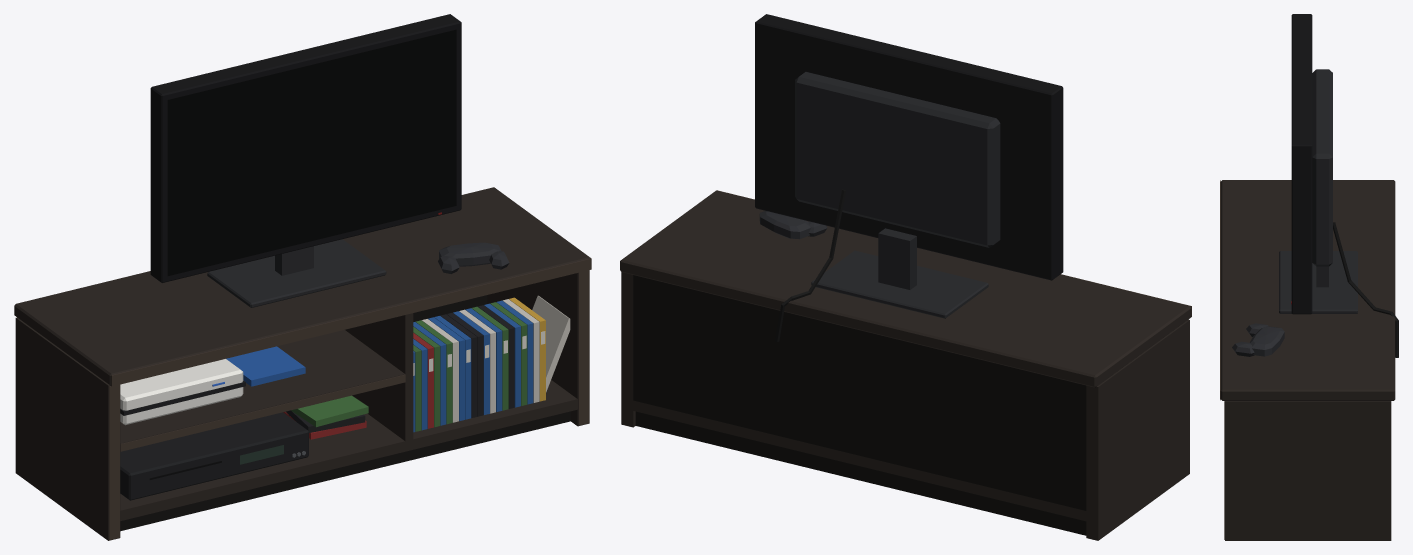
Rendered from tv_set.glb.
3 views of the same model, side by side, from view 1: azimuth 30°, elevation 25°; view 2: azimuth 150°, elevation 25°; view 3: azimuth 270°, elevation 25° (orthographic). The views are drawn at different scales.
Parts seen in each view (by area): view 1: body; view 2: body; view 3: body.
Boxes of the visible parts, x1,y1,x2,y2 form: body: [14, 14, 591, 540]; body: [620, 14, 1191, 540]; body: [1220, 14, 1398, 540].
Size of the model in its own units: 1.2 by 0.945 by 0.4301.
